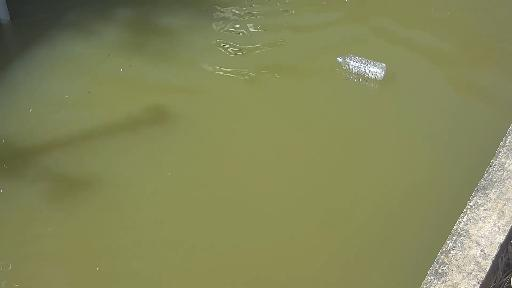plastic: (339, 47, 403, 86)
